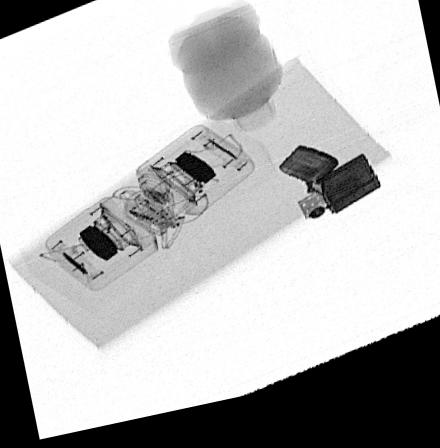Lighter: (279, 157, 380, 233)
